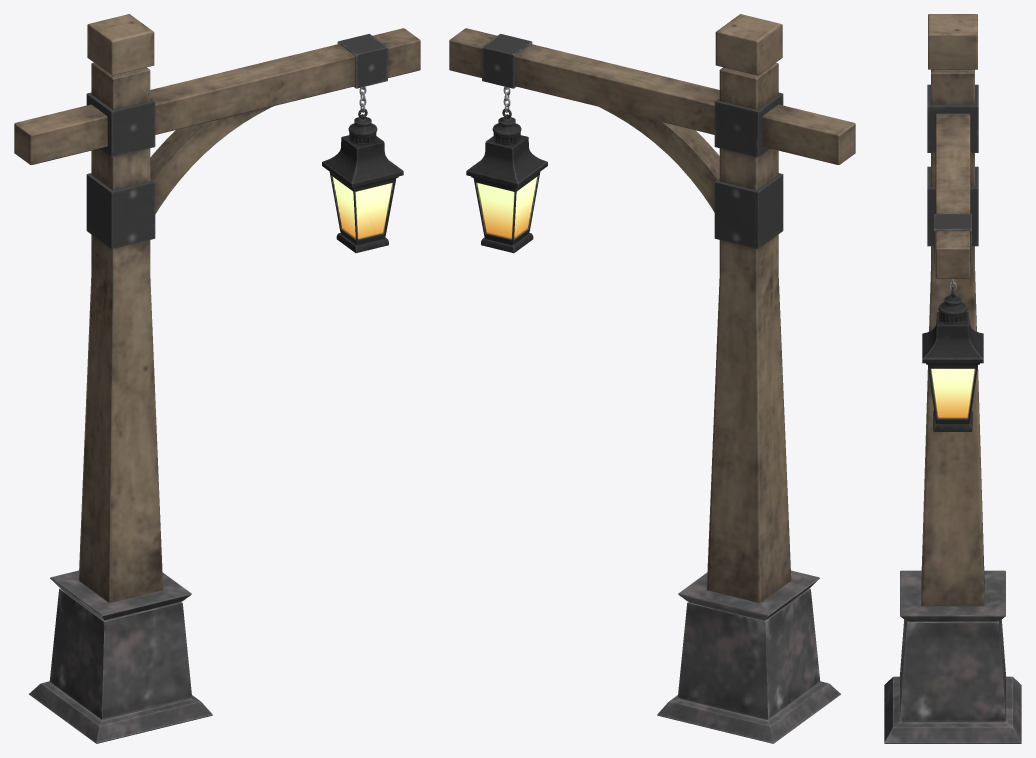
Rendered from plaza-carved-lantern.glb.
3 views of the same model, side by side, from view 1: azimuth 30°, elevation 25°; view 2: azimuth 150°, elevation 25°; view 3: azimuth 270°, elevation 25° (orthographic).
Visible parts, largest first — view 1: LanternPole_Body, LanternPole_Lantern; view 2: LanternPole_Body, LanternPole_Lantern; view 3: LanternPole_Body, LanternPole_Lantern.
Boxes of the visible parts, x1,y1,x2,y2 form: LanternPole_Body: (14,14,420,743); LanternPole_Lantern: (322,108,403,253); LanternPole_Body: (449,14,855,743); LanternPole_Lantern: (466,108,547,253); LanternPole_Body: (884,14,1021,743); LanternPole_Lantern: (922,287,983,431).
Size of the model in its own units: 15.49 by 25.66 by 4.63.
Materials: 1 (1 with a texture image).
